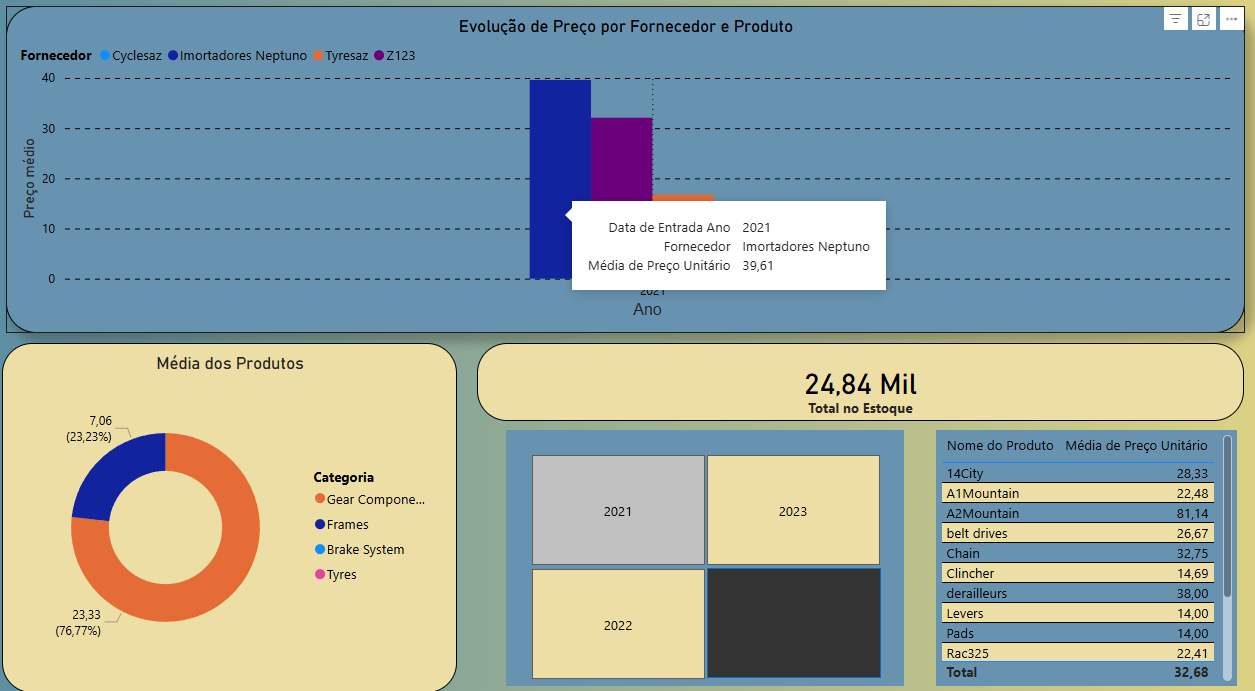

The page's visual inventory and layout, read from the dashboard file:
{"tool":"powerbi","page":{"name":"Página 1","canvas":[1280,720],"ordinal":0},"visuals":[{"type":"clusteredColumnChart","title":"Evolução de Preço por Fornecedor e Produto","fields":{"Category":["Products.Data de Entrada.Variation.Hierarquia de datas.Ano"],"Y":["Avg(Products.Preço Unitário)"],"Series":["Products.Fornecedor"]},"box":[20.4,26.3,1238.2,326.8],"z":0},{"type":"card","title":"fwfdqw","fields":{"Values":["Sum(Products.Unidades em Estoque)"]},"box":[491.2,362.8,767.4,77.8],"z":0,"group":"g1"},{"type":"donutChart","title":"Média dos Produtos","fields":{"Y":["Avg(Products.Unidades sob Pedido)"],"Category":["Products.Categoria"]},"box":[16,362.7,454.6,350.7],"z":1000},{"type":"group","id":"g1","title":"Grupo 1","box":[491.2,362.8,767.4,77.8],"z":2000},{"type":"textbox","box":[800.5,414.3,149.8,35],"z":3000},{"type":"tableEx","fields":{"Values":["Products.Nome do Produto","Avg(Products.Preço Unitário)"]},"box":[950.3,449.6,300.8,256.8],"z":4000},{"type":"slicer","fields":{"Values":["Products.Data de Entrada.Variation.Hierarquia de datas.Ano"]},"box":[519.6,449.6,398.7,256.8],"z":5000},{"type":"shape","box":[721.3,588.1,173.2,110],"z":6000}]}

Visuals, with their boxes in screenshot pixels (x1, y1, x2, y2), scaled from the page's 1280x720 canvas onto the 1255x691 screenshot:
"Evolução de Preço por Fornecedor e Produto" clusteredColumnChart: select_region(20, 25, 1234, 339)
"fwfdqw" card: select_region(482, 348, 1234, 423)
"Média dos Produtos" donutChart: select_region(16, 348, 461, 685)
"Grupo 1" group: select_region(482, 348, 1234, 423)
textbox: select_region(785, 398, 932, 431)
tableEx - Products.Nome do Produto x Avg(Products.Preço Unitário): select_region(932, 431, 1227, 678)
slicer - Products.Data de Entrada.Variation.Hierarquia de datas.Ano: select_region(509, 431, 900, 678)
shape: select_region(707, 564, 877, 670)
